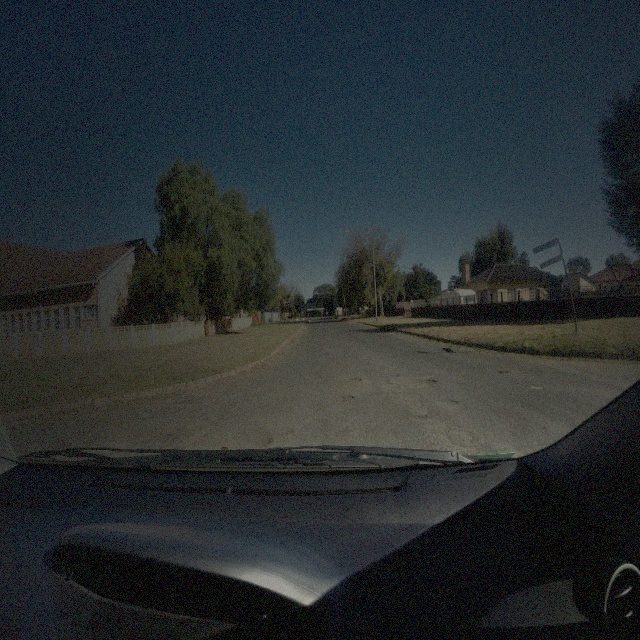pothole: (414, 371, 438, 385), (337, 391, 357, 402), (346, 374, 364, 384), (496, 368, 509, 376)
